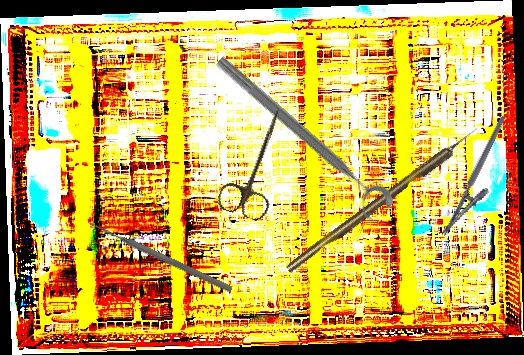Fixation Ring: (203, 50, 398, 227)
Hook Surgical: (284, 125, 482, 275)
Iris Scissors: (214, 99, 301, 224)
Needle Holder: (440, 115, 523, 245)
Pusher: (86, 218, 234, 294)
